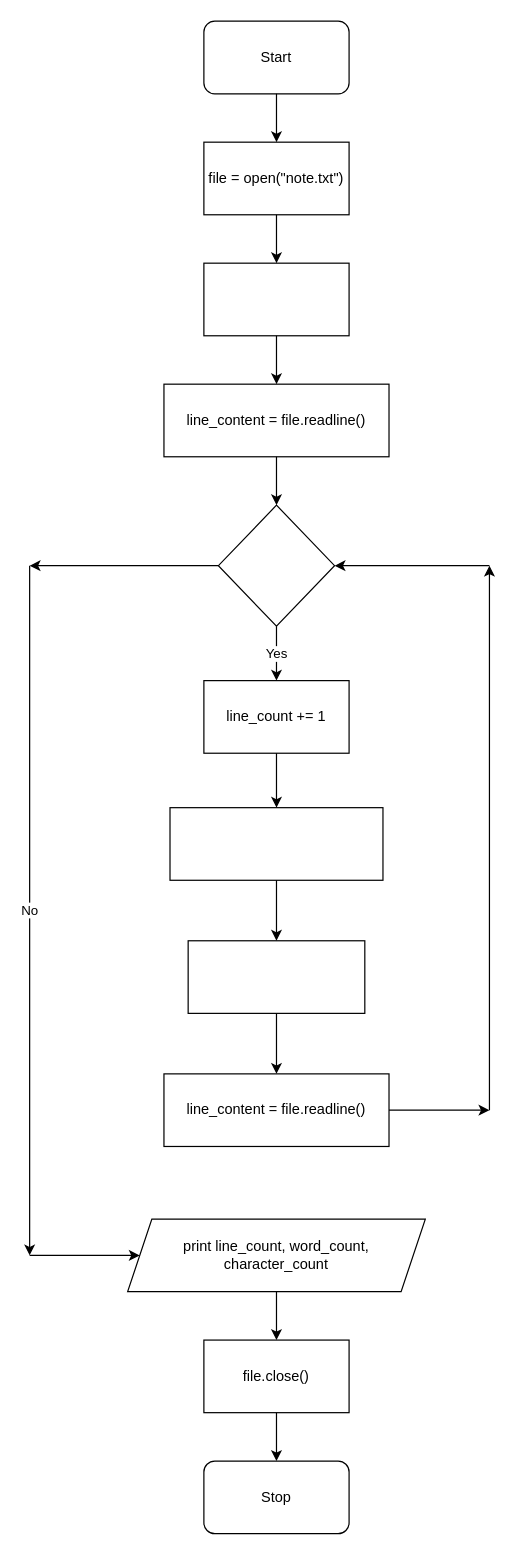
This 520x1555 diagram has some shape labels left out. Here are the shapes that lost their labels. From the top down, the centre of each, then its label:
the point at 276,299: line_count = 0 word_count = 0 character_count = 0
the point at 276,565: while line_content
the point at 276,843: word_count = len(line_content.split())
the point at 276,976: character_count += len(line_content)
